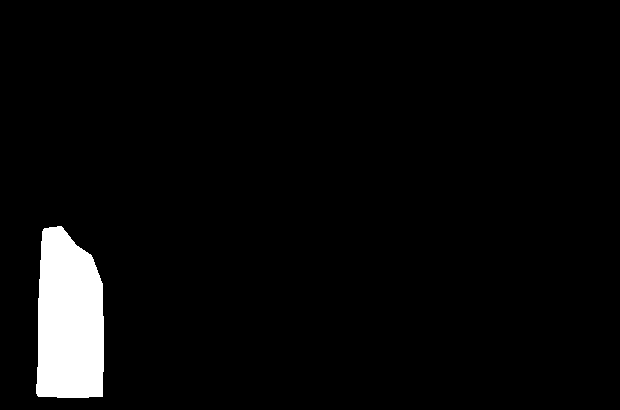type5: (33, 220, 108, 400)
